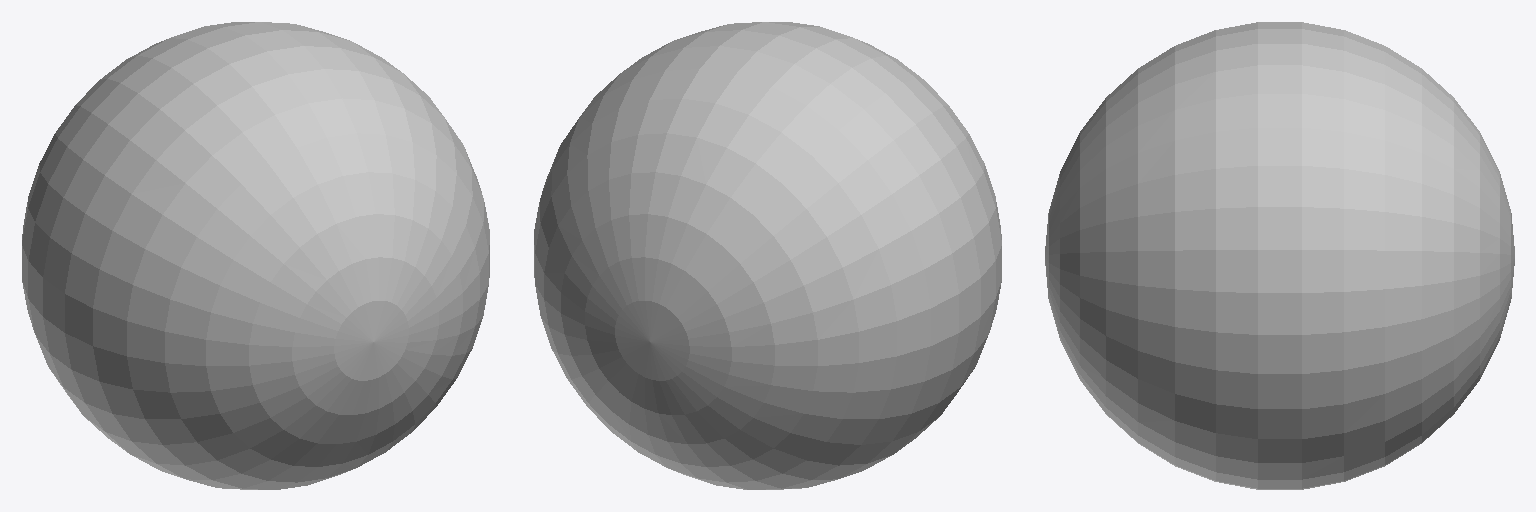
File: rightSphere.obj
The picture shows the model from 3 angles: view 1: azimuth 30°, elevation 25°; view 2: azimuth 150°, elevation 25°; view 3: azimuth 270°, elevation 25°; orthographic projection.
Visible parts, largest first — view 1: rightSphere; view 2: rightSphere; view 3: rightSphere.
Part boxes in pixels (left/top/right/bottom): rightSphere: left=22, top=22, right=489, bottom=489; rightSphere: left=534, top=22, right=1001, bottom=489; rightSphere: left=1045, top=22, right=1514, bottom=489.
Size of the model in its own units: 0.6471 by 0.6499 by 0.6526.